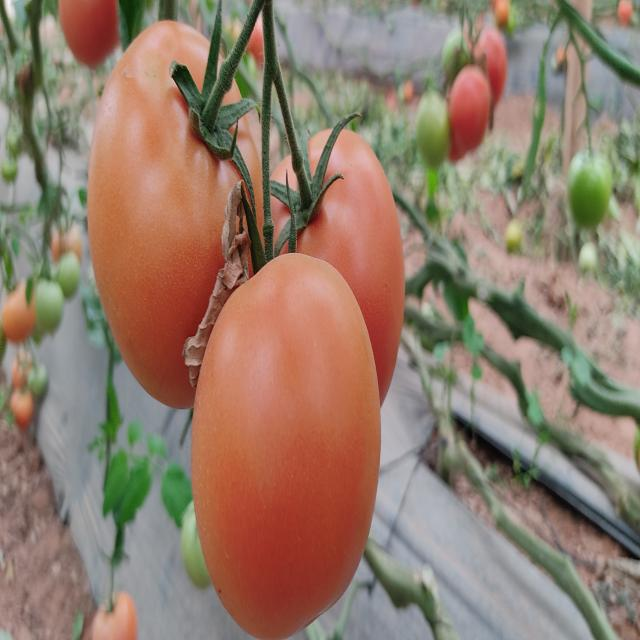Ripe Tomato: (190, 245, 384, 640), (82, 21, 268, 402), (272, 108, 411, 402), (445, 71, 494, 153)
Unripe Tomato: (563, 146, 616, 231), (410, 96, 448, 178), (32, 277, 62, 338)
